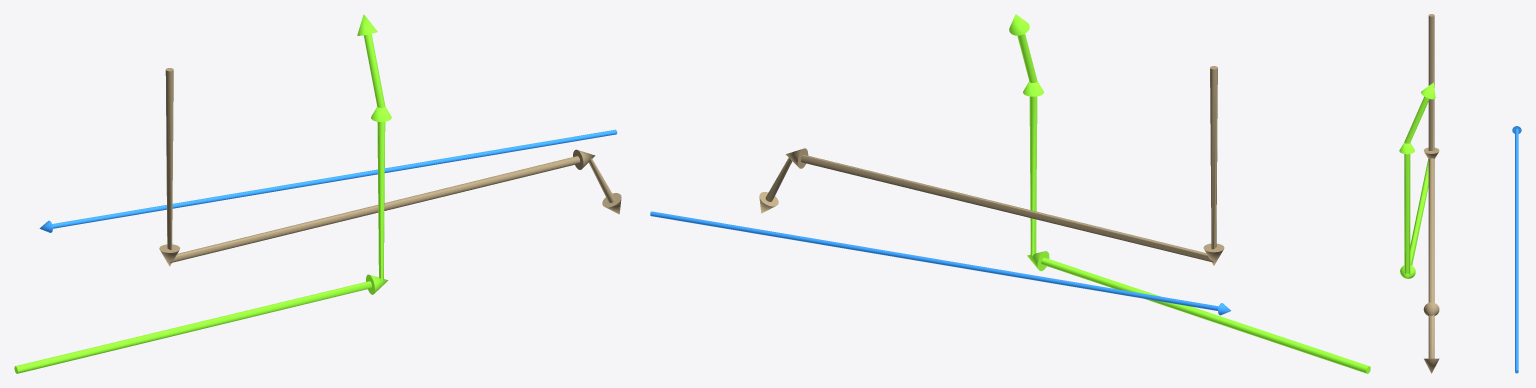
The model's file is calcination_fluidized_bed_cooler_flow.glb.
3 views of the same model, side by side, from view 1: azimuth 30°, elevation 25°; view 2: azimuth 150°, elevation 25°; view 3: azimuth 270°, elevation 25° (orthographic). The views are drawn at different scales.
Visible parts, largest first — view 1: alumina, air, cooling_water; view 2: alumina, air, cooling_water; view 3: alumina, air, cooling_water.
Boxes of the visible parts, x1,y1,x2,y2 form: alumina: [159, 68, 621, 266]; air: [14, 14, 391, 373]; cooling_water: [39, 129, 617, 232]; alumina: [759, 66, 1224, 265]; air: [1009, 14, 1370, 373]; cooling_water: [650, 211, 1231, 315]; alumina: [1423, 14, 1439, 373]; air: [1399, 82, 1435, 278]; cooling_water: [1512, 126, 1521, 373].
Size of the model in its own units: 4.7 by 1.87 by 1.
